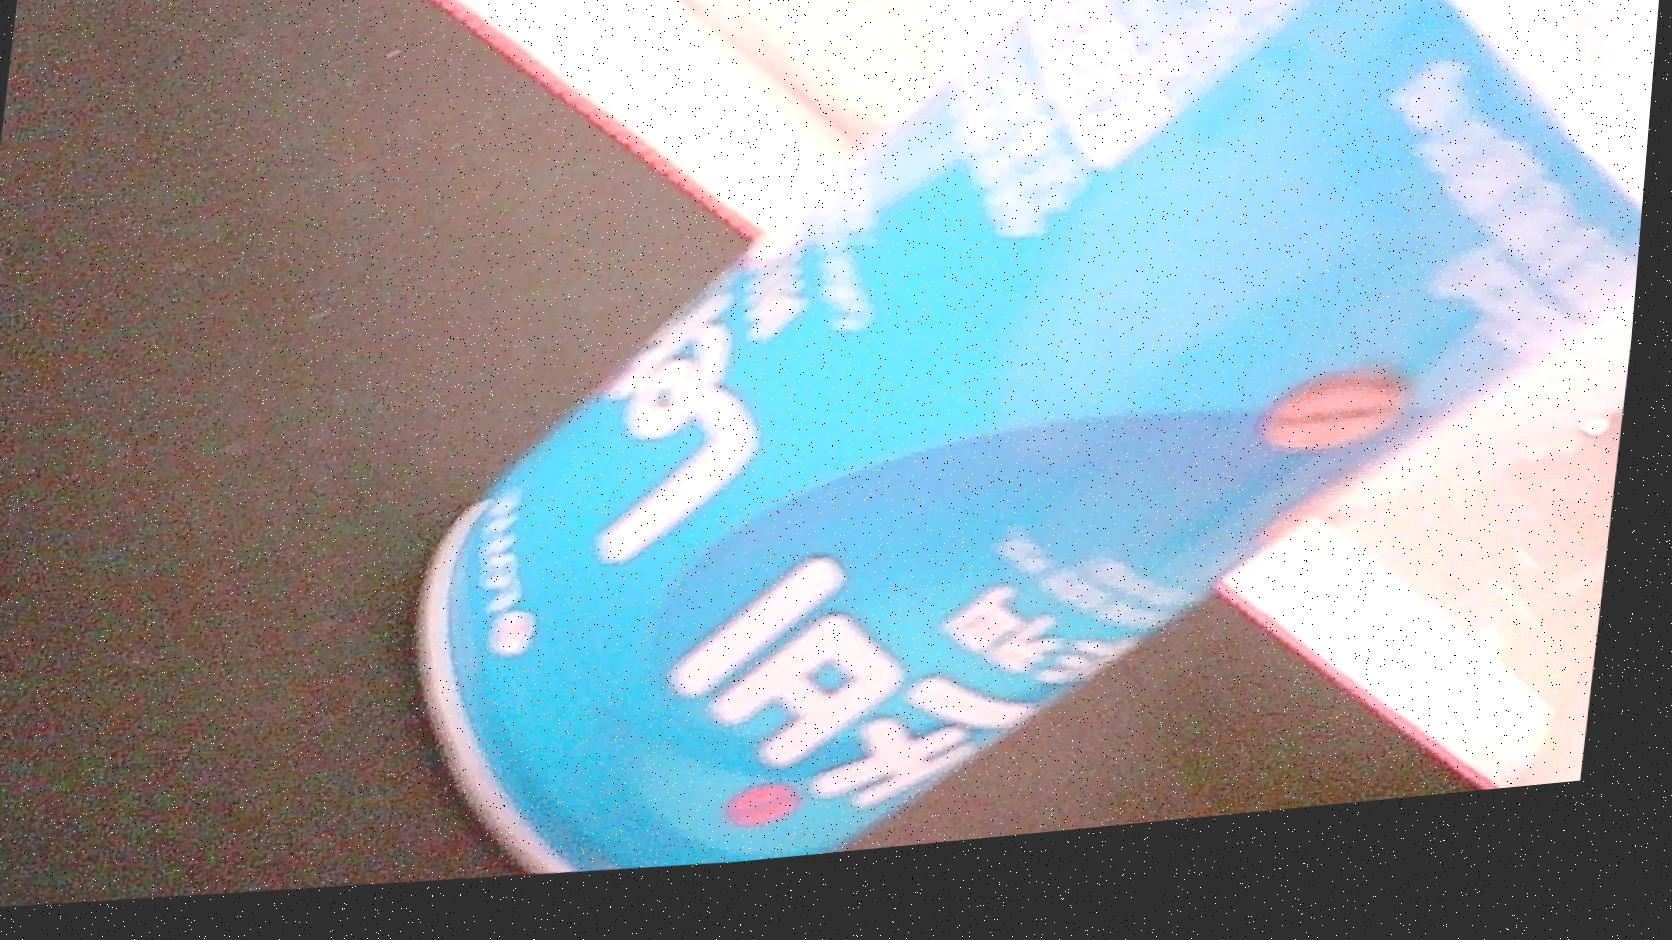letsbe: (402, 0, 1672, 904)
